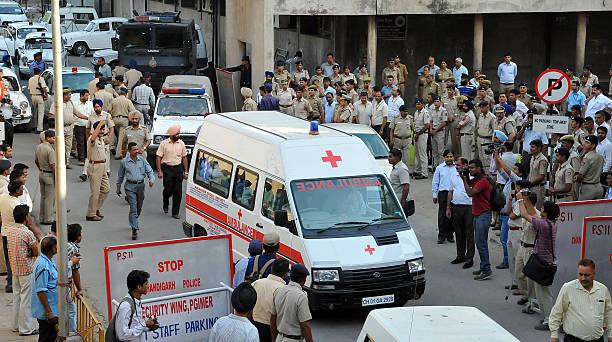AMBULANCE: (180, 112, 431, 304)
